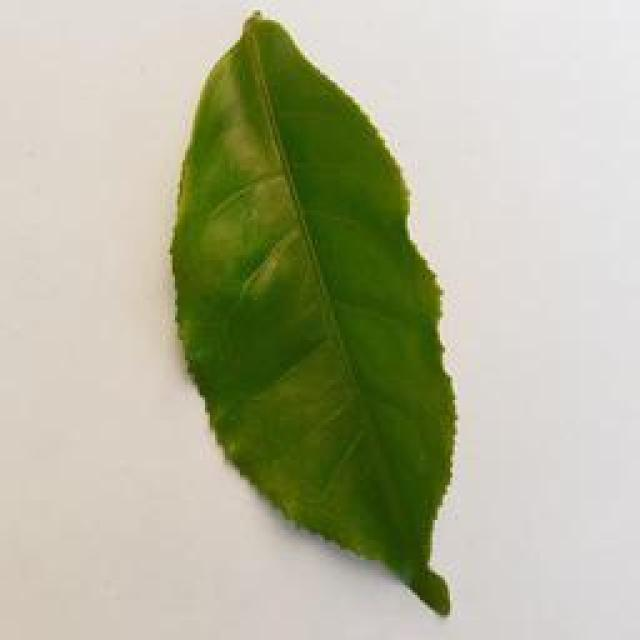Healthy: (164, 4, 486, 622)
